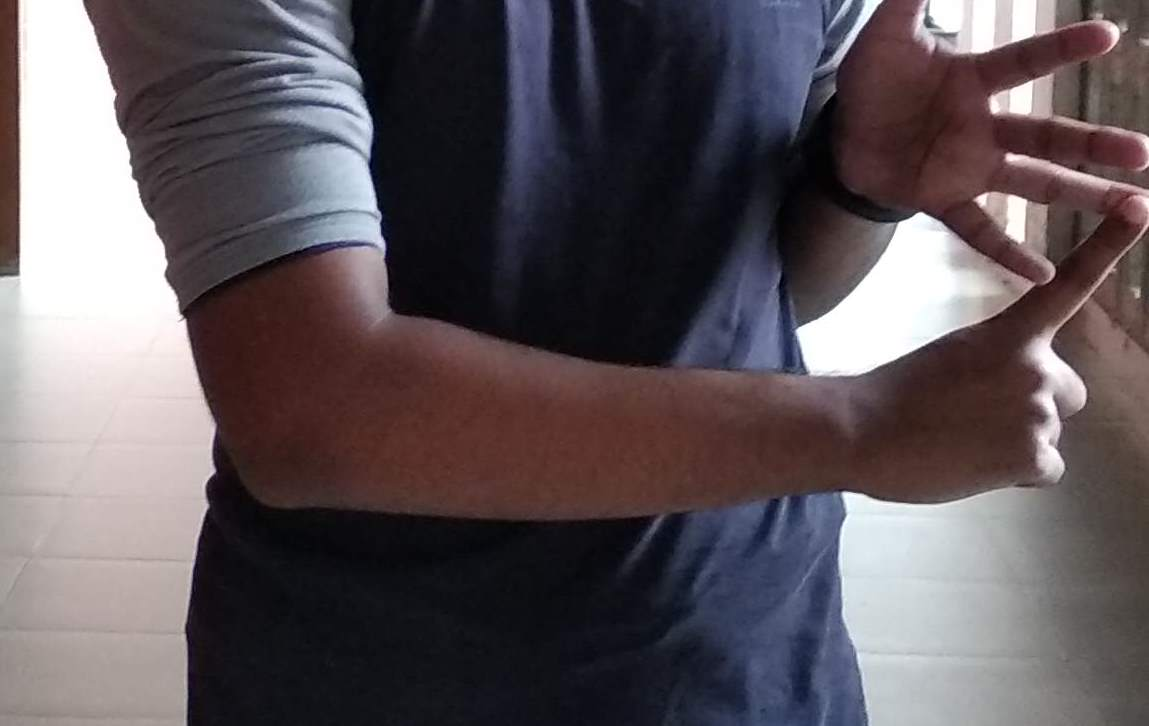e: (889, 13, 1149, 426)
